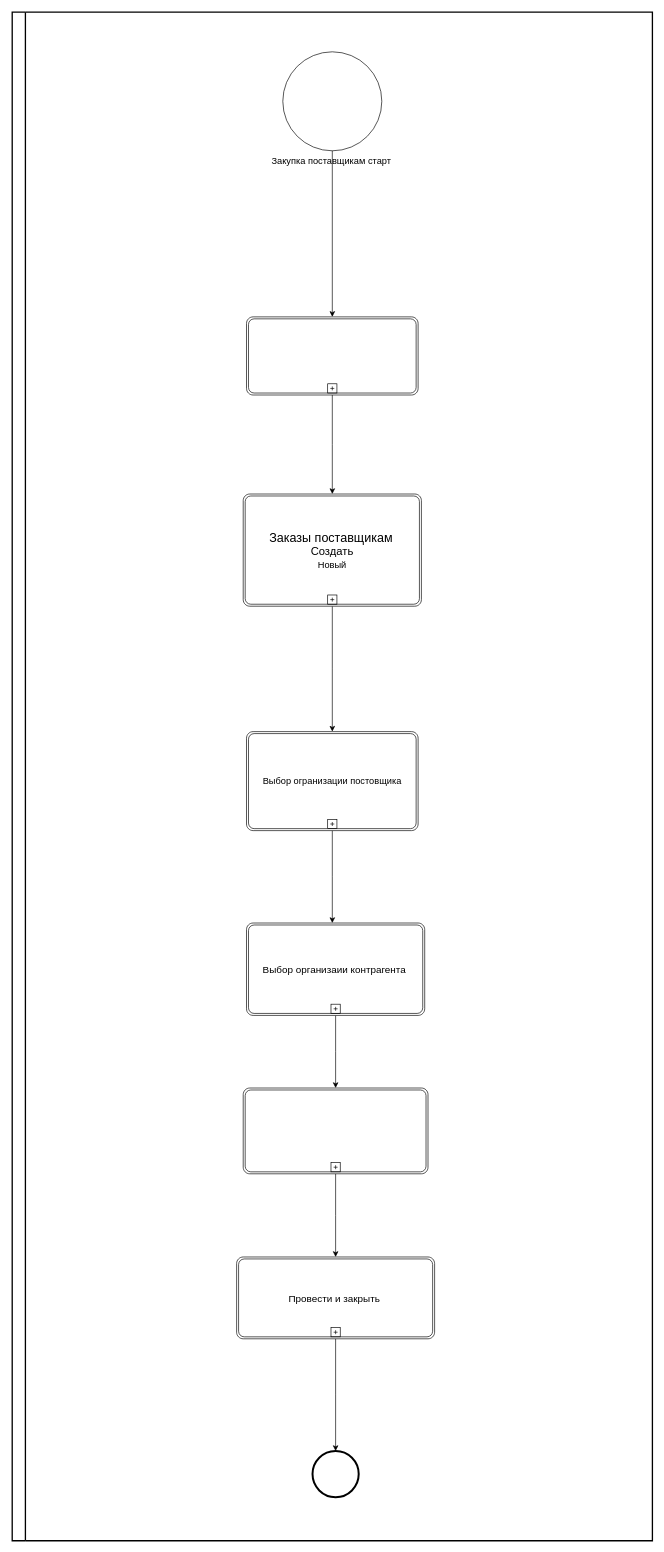
Some shapes in this 664 by 1552 pixel diagram are drawn without their labels. Each missing label, with the centre of its shape:
"Закупки Заказы поставщикам" belongs at (332,355).
"Процесс окончен" belongs at (335,1473).
"Товары Выбор товара" belongs at (335,1130).
